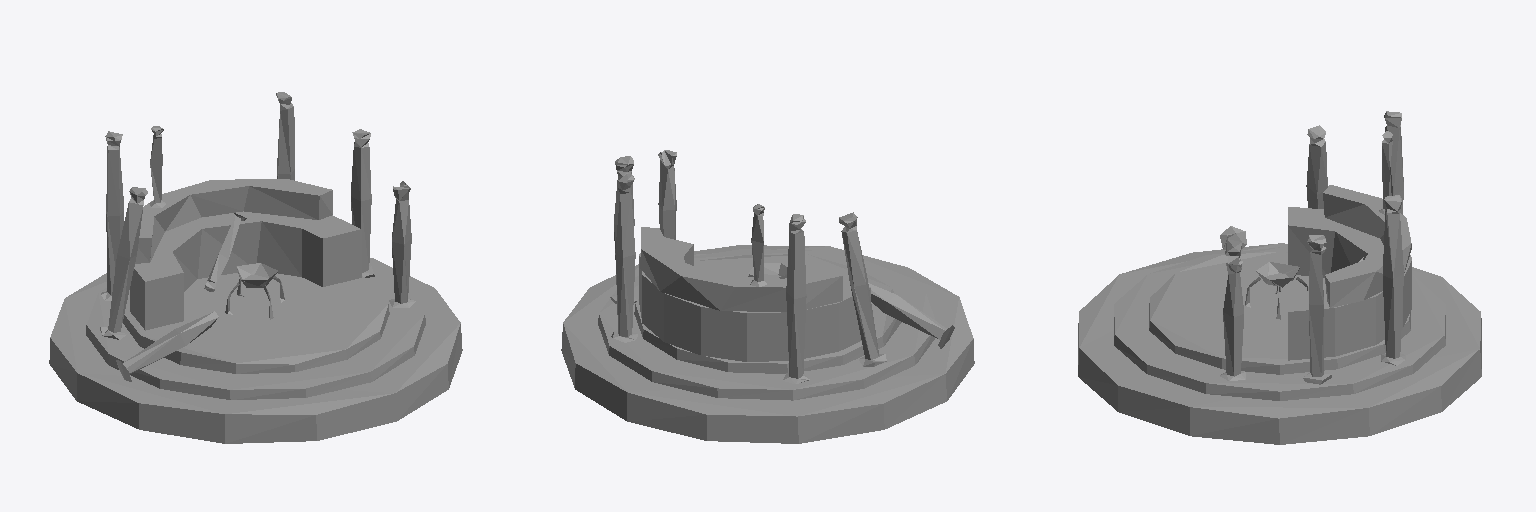
File: ruinsTempleRuin1.obj
The picture shows the model from 3 angles: view 1: azimuth 30°, elevation 25°; view 2: azimuth 150°, elevation 25°; view 3: azimuth 270°, elevation 25°; orthographic projection.
Parts seen in each view (by area): view 1: TempleRuinTwo300; view 2: TempleRuinTwo300; view 3: TempleRuinTwo300.
Boxes of the visible parts, x1=… form: TempleRuinTwo300: x1=49, y1=92, x2=462, y2=443; TempleRuinTwo300: x1=561, y1=150, x2=974, y2=443; TempleRuinTwo300: x1=1078, y1=111, x2=1481, y2=444.
Bounding box in the file's own units: 1254 × 678 × 1223.